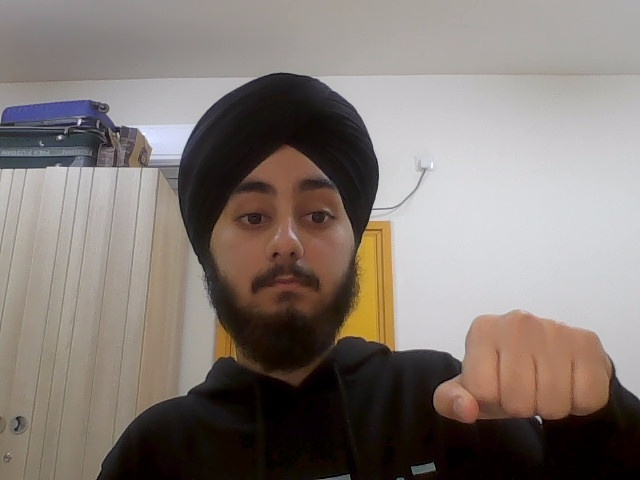Yes: (425, 309, 618, 428)
